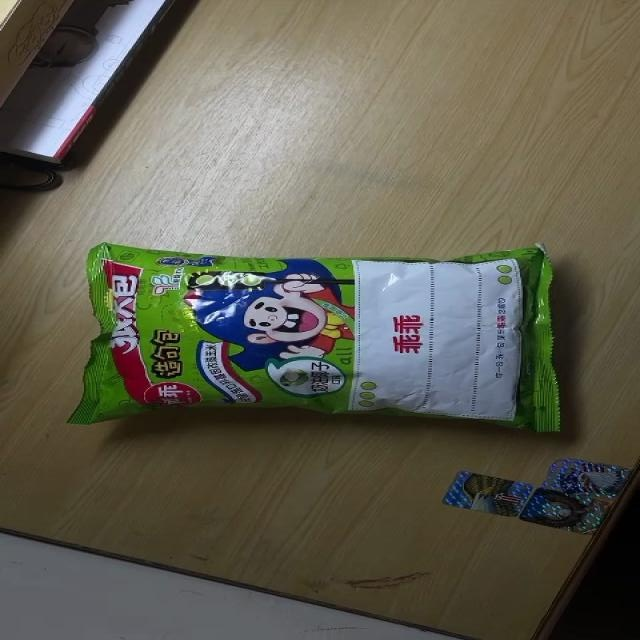Good-Luck: (65, 241, 562, 433)
